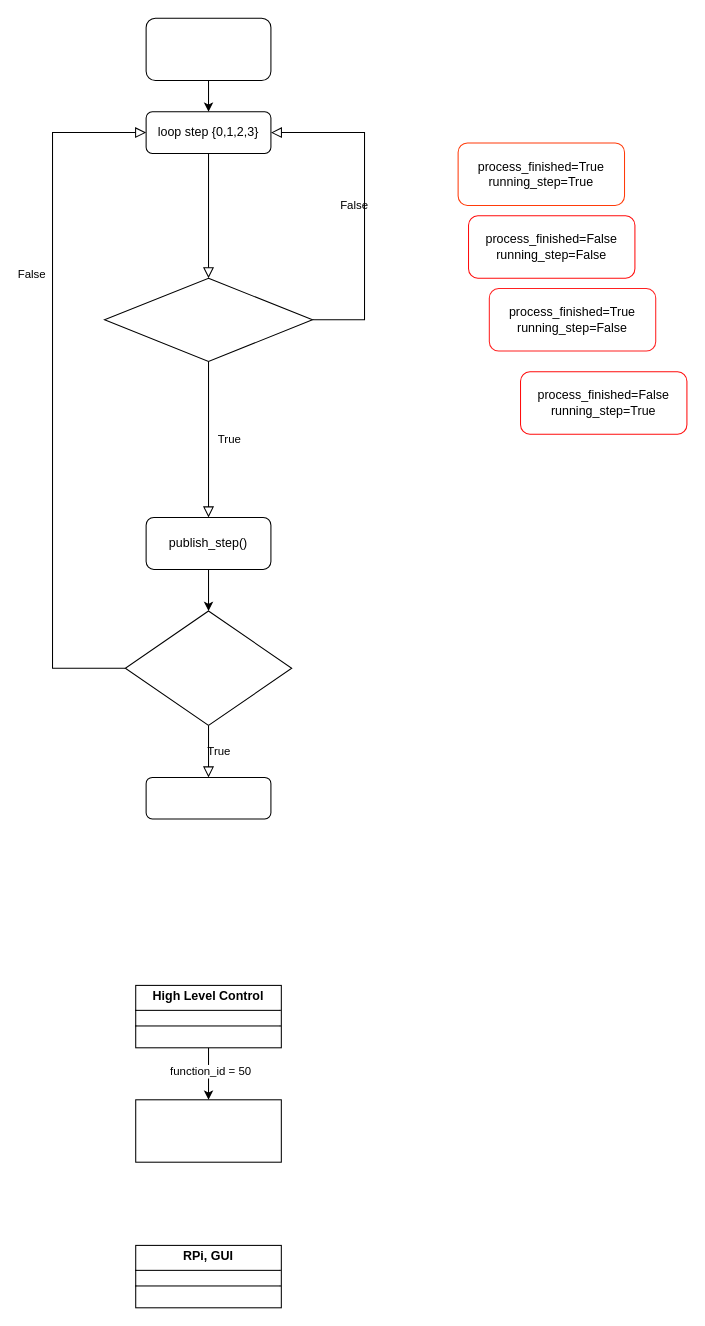
Some shapes in this 705 by 1326 pixel diagram are drawn without their labels. Here are the shapes that lost their labels. From the top down, the box of each, then its label:
(145, 17, 271, 81): send goal: function_id = 50
(103, 277, 313, 361): process_finished==False running_step==False
(145, 776, 271, 819): publish_success()
(135, 1099, 281, 1162): sn.action_server
